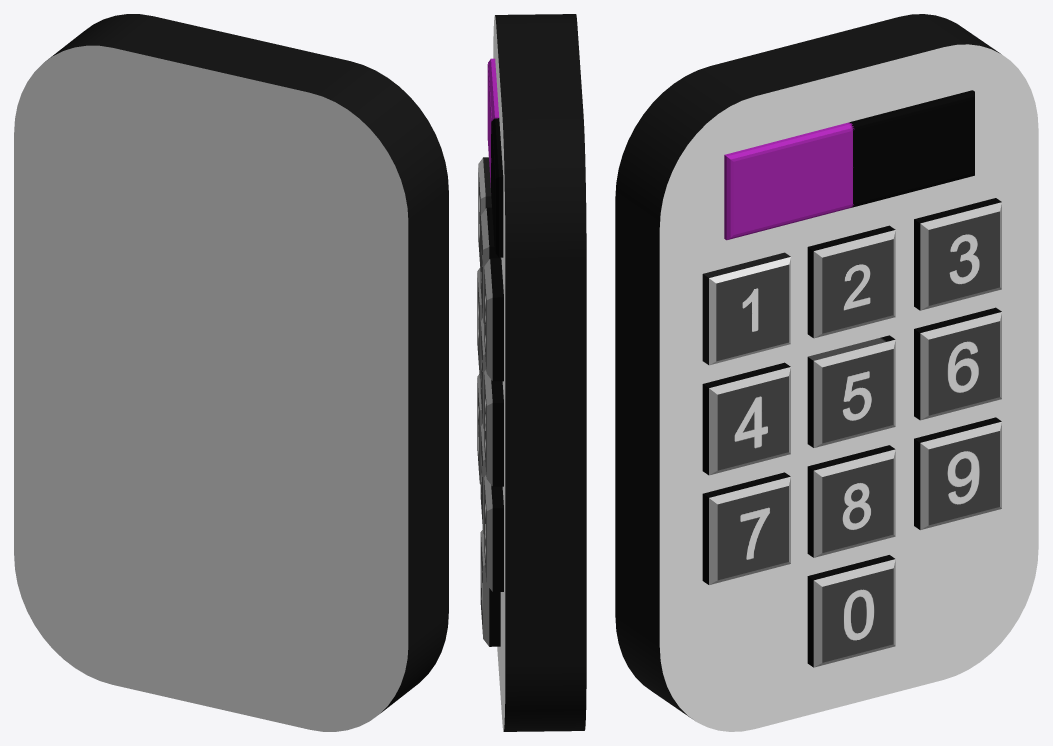
The model's file is keypad.fbx.
3 views of the same model, side by side, from view 1: azimuth 30°, elevation 25°; view 2: azimuth 150°, elevation 25°; view 3: azimuth 270°, elevation 25° (orthographic). The views are drawn at different scales.
Visible parts, largest first — view 1: achterkant; view 2: achterkant, nummer_3, nummer_9, nummer_6, schermpje, nummer_0, nummer_2, schermpje1, nummer_1, nummer_5, nummer_8, nummer_4 (+1 smaller); view 3: achterkant, schermpje1, nummer_1, nummer_5, nummer_2, nummer_8, nummer_7, nummer_4, nummer_0, nummer_3, nummer_6, nummer_9 (+1 smaller).
Part boxes in pixels (x1,y1,x2,y2): achterkant: [14, 14, 448, 731]; achterkant: [493, 14, 586, 731]; nummer_3: [484, 258, 503, 381]; nummer_9: [484, 475, 503, 592]; nummer_6: [484, 369, 503, 486]; schermpje: [488, 58, 503, 257]; nummer_0: [480, 529, 500, 646]; nummer_2: [480, 207, 500, 323]; schermpje1: [487, 63, 495, 253]; nummer_1: [478, 157, 491, 271]; nummer_5: [480, 318, 486, 428]; nummer_8: [480, 424, 486, 534]; nummer_4: [477, 267, 482, 378]; achterkant: [615, 14, 1038, 731]; schermpje1: [730, 96, 974, 237]; nummer_1: [702, 252, 790, 365]; nummer_5: [807, 335, 895, 447]; nummer_2: [807, 225, 895, 338]; nummer_8: [807, 445, 895, 557]; nummer_7: [702, 472, 790, 584]; nummer_4: [702, 362, 790, 475]; nummer_0: [807, 555, 895, 667]; nummer_3: [914, 198, 1001, 310]; nummer_6: [914, 307, 1001, 420]; nummer_9: [914, 417, 1001, 529].
Bounding box in the file's own units: 0.1628 × 0.372 × 0.2255.
12 materials, 12 textured.
